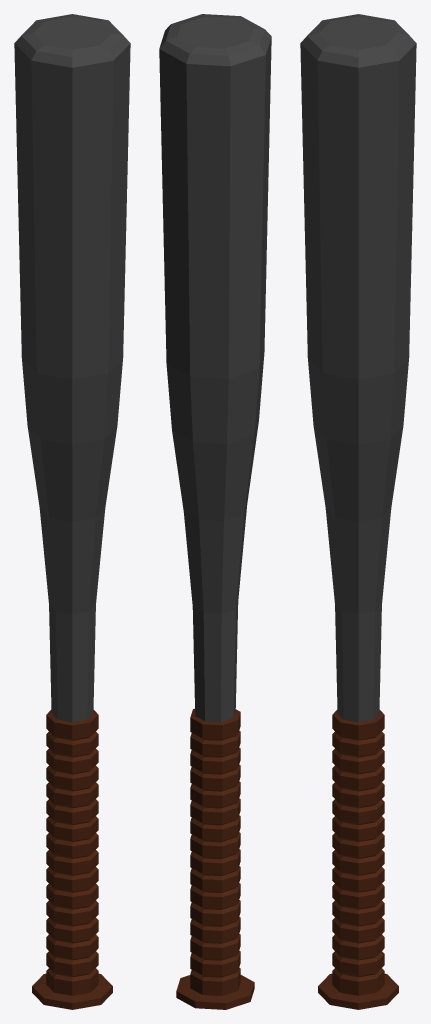
Rendered from Bat.fbx.
3 renders of one model, left to right at view 1: azimuth 90°, elevation 25°; view 2: azimuth 150°, elevation 25°; view 3: azimuth 270°, elevation 25°, orthographic.
Visible parts, largest first — view 1: Bat; view 2: Bat; view 3: Bat.
Boxes of the visible parts, x1,y1,x2,y2 form: Bat: (14, 14, 130, 1009); Bat: (159, 14, 271, 1009); Bat: (300, 14, 416, 1009).
Size of the model in its own units: 20.41 by 20.41 by 186.
